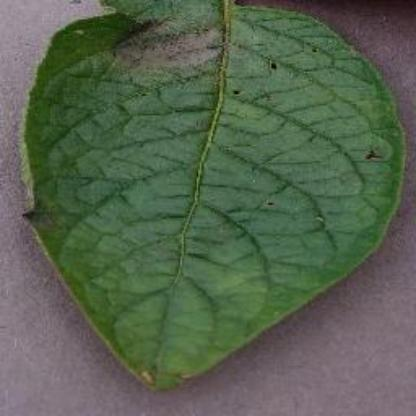Late-Blight: (18, 1, 408, 395)
